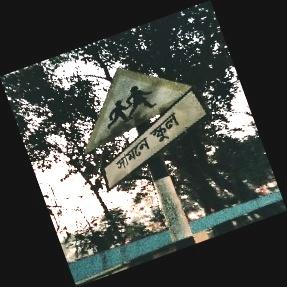School-in-front: (86, 68, 206, 190)
